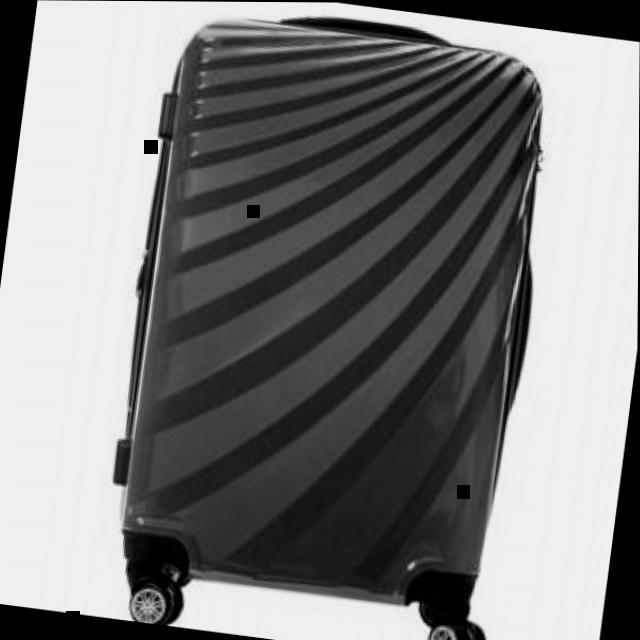luggage: (96, 1, 570, 627)
